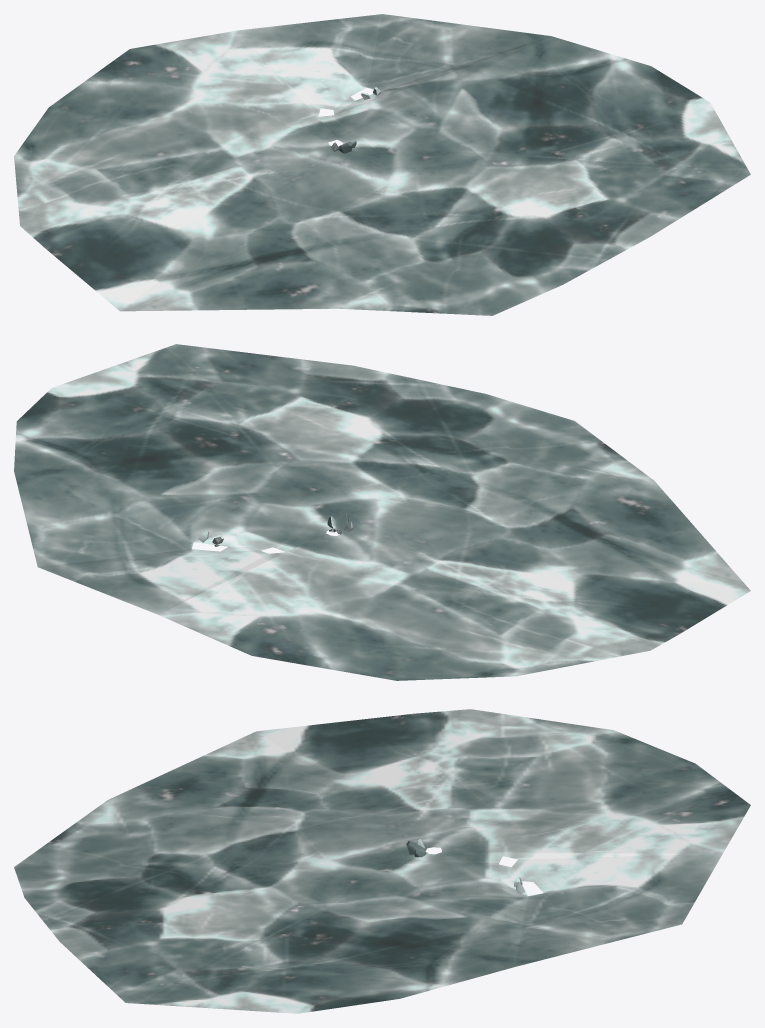
Rendered from icesheet.fbx.
3 renders of one model, top to bottom at view 1: azimuth 30°, elevation 25°; view 2: azimuth 150°, elevation 25°; view 3: azimuth 270°, elevation 25°, orthographic. The views are drawn at different scales.
Parts seen in each view (by area): view 1: IceSheet; view 2: IceSheet; view 3: IceSheet.
Boxes of the visible parts, x1,y1,x2,y2 form: IceSheet: [14, 14, 750, 315]; IceSheet: [14, 344, 750, 680]; IceSheet: [14, 709, 750, 1013].
Bounding box in the file's own units: 18096 × 1634 × 16661.
